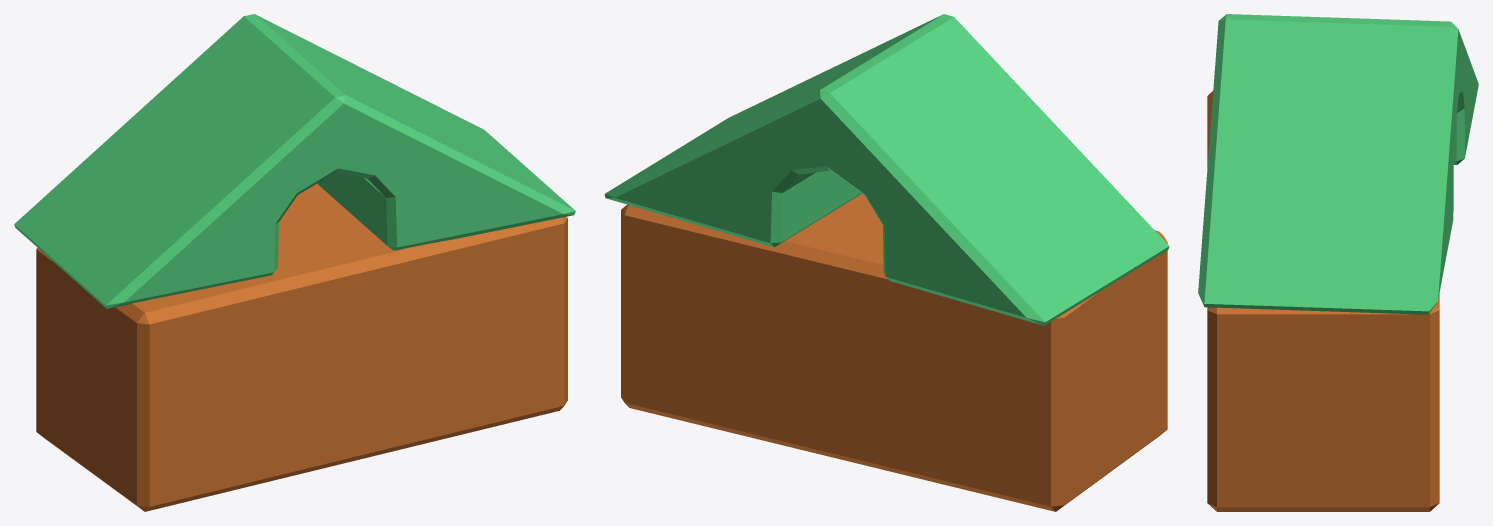
Rendered from School.fbx.
3 renders of one model, left to right at view 1: azimuth 30°, elevation 25°; view 2: azimuth 150°, elevation 25°; view 3: azimuth 270°, elevation 25°, orthographic. The views are drawn at different scales.
Parts seen in each view (by area): view 1: Cube.001; view 2: Cube.001; view 3: Cube.001.
Part boxes in pixels (x1=…): Cube.001: x1=14, y1=14, x2=575, y2=511; Cube.001: x1=604, y1=14, x2=1169, y2=511; Cube.001: x1=1198, y1=14, x2=1478, y2=511.
Bounding box in the file's own units: 488 × 365 × 242.
